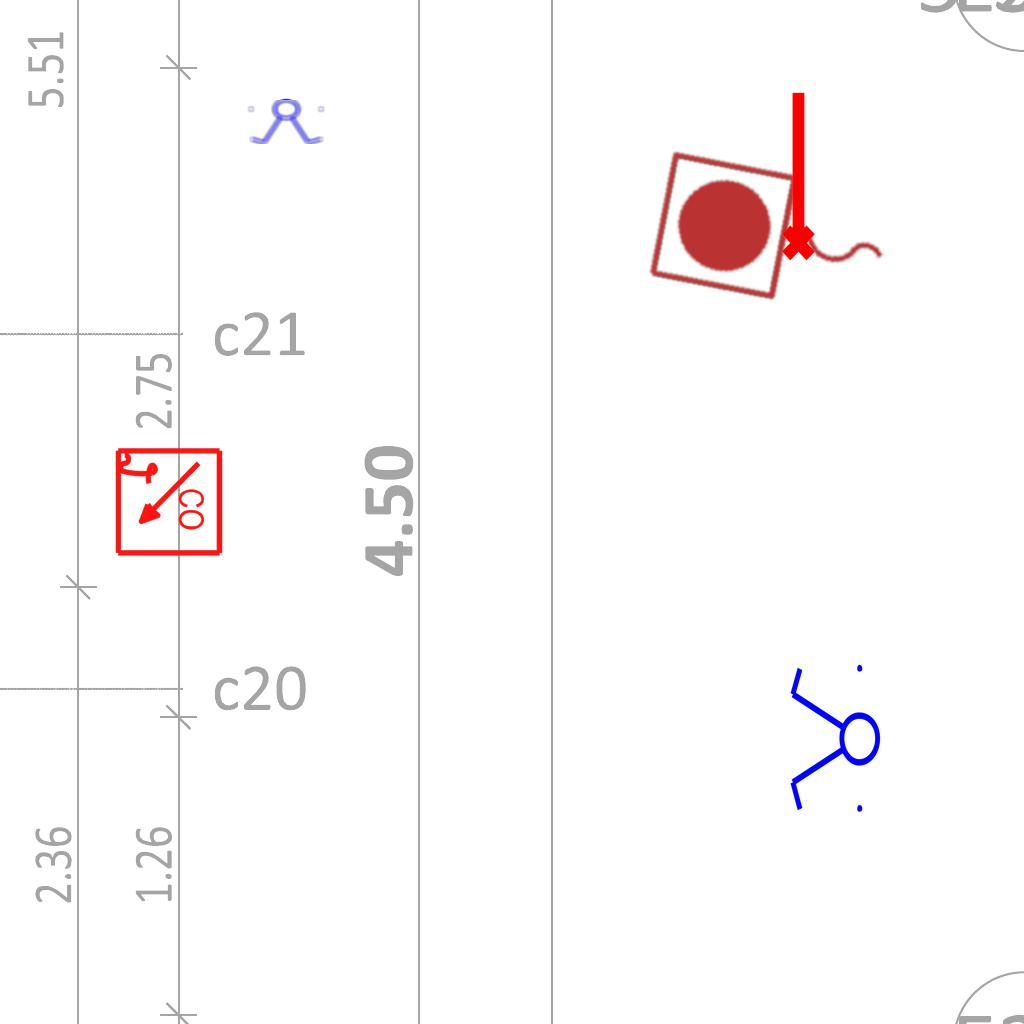ASR_Ansaugoeffnung: (773, 87, 819, 263)
ROA_Rauchmelder_optisch_mit_Signalgeber_(Sockelsirene): (111, 446, 224, 559)
Serienschalter: (786, 656, 882, 824), (245, 98, 329, 146)
Zugtaster: (639, 143, 907, 331)
